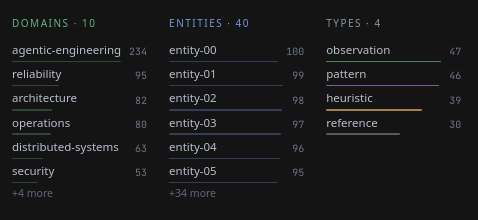
it: overflow browser › a facet that empties under an open browser falls back to the columns
The image size is (478, 220).
What coordinates should you click on to do the following:
click the text with test id "facet-more" showing "+4 more"
I would click on:
 (32, 193)
Its box is top-left (12, 186), bottom-right (53, 200).
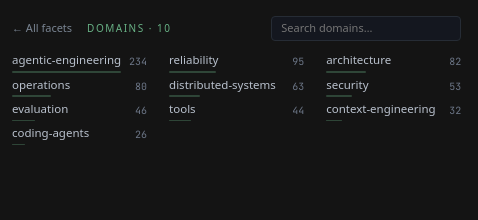
Expected: the element with test id "facet-browser" is shown
